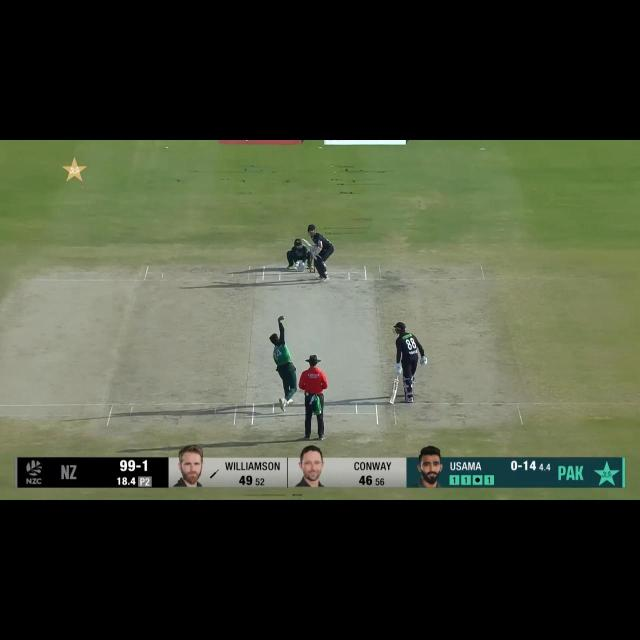bat: (389, 379, 400, 404), (298, 238, 312, 252)
toe: (389, 397, 396, 405), (300, 239, 306, 244)
